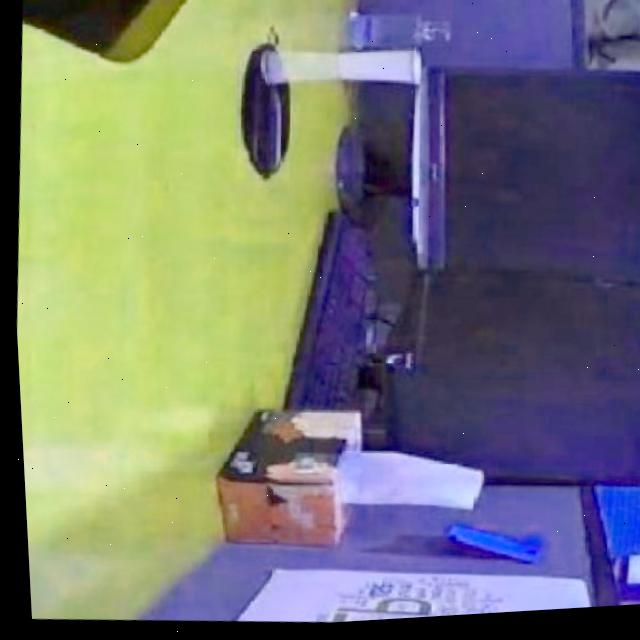spillage: (236, 38, 287, 181)
